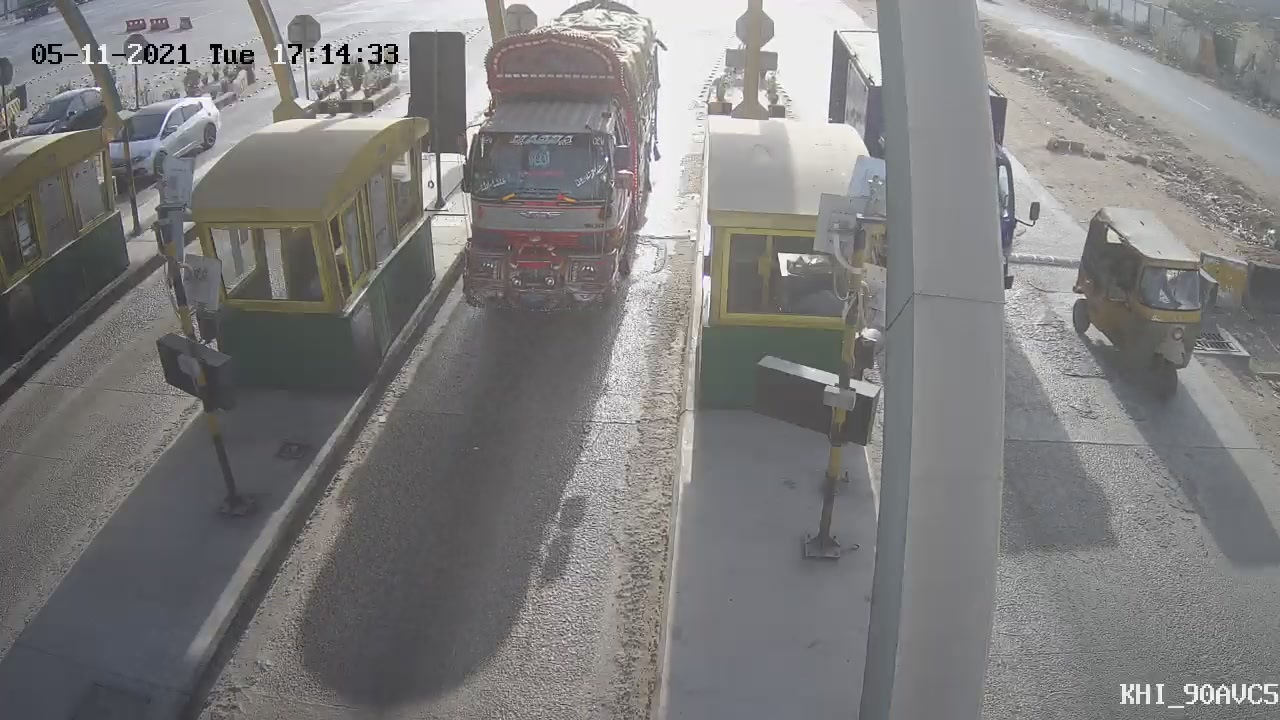F5: (431, 1, 690, 348)
